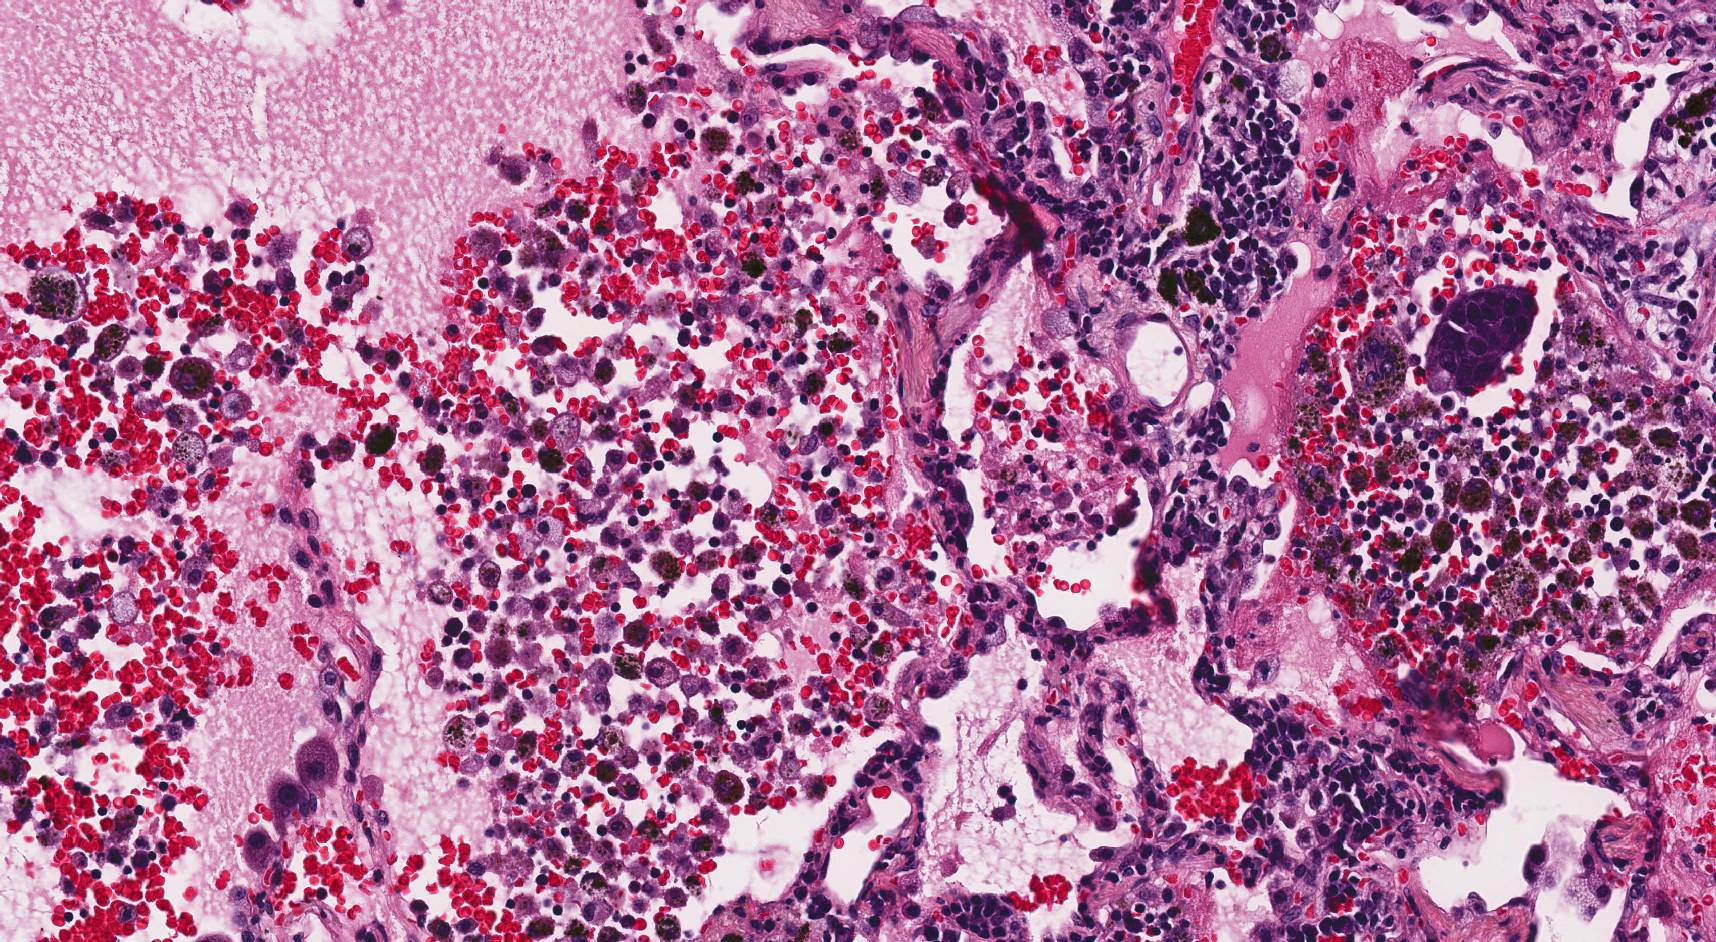stas: (1423, 284, 1538, 399)
